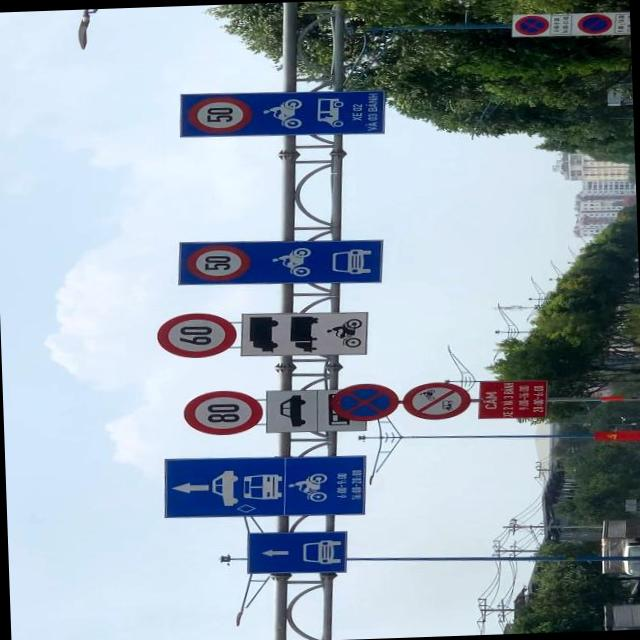P-127: (178, 389, 264, 434), (154, 312, 238, 357)
P-130: (329, 382, 398, 422)
